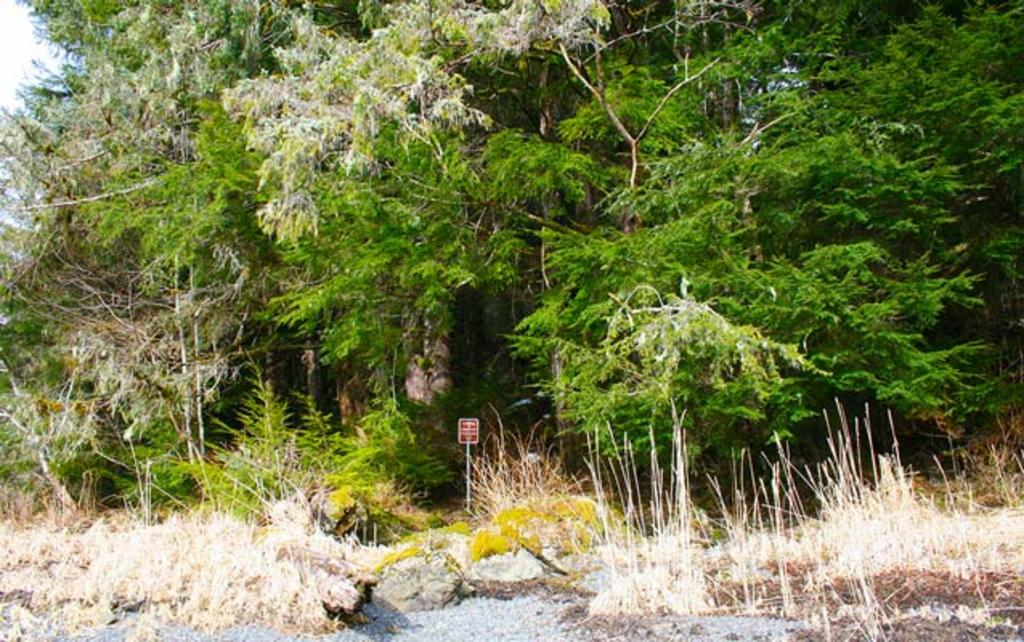Tree: (0, 0, 1024, 537)
